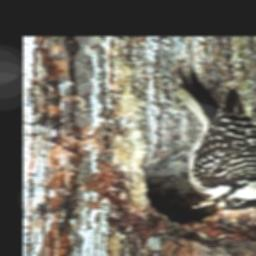Woodpecker: (170, 67, 256, 212)
